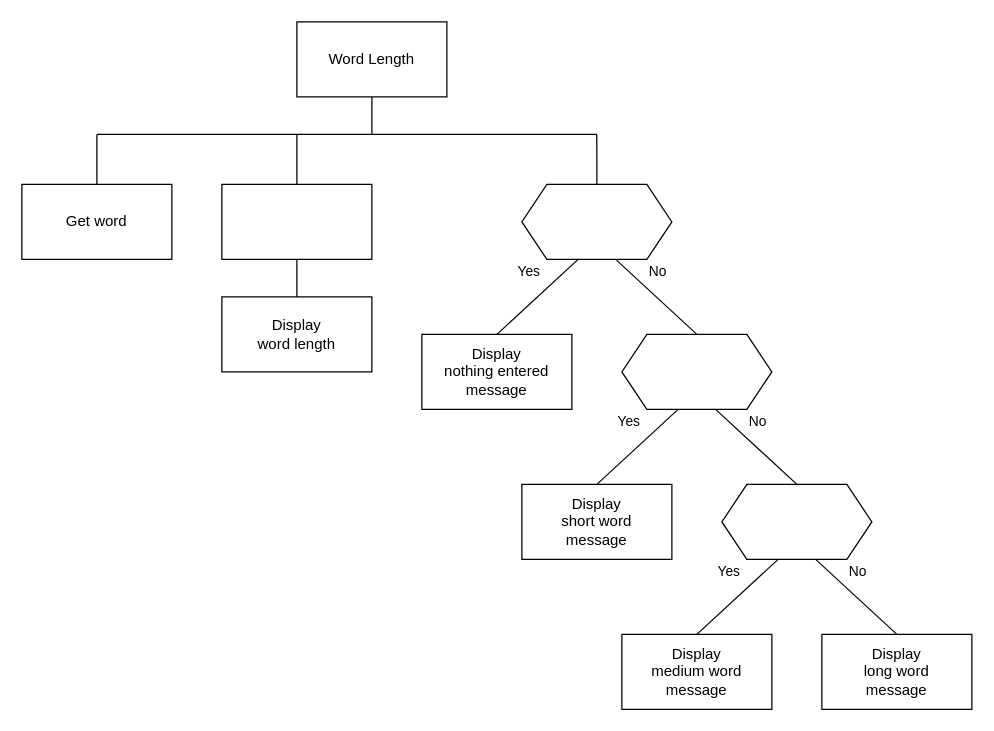
This 994x731 diagram has some shape labels left out. The centre of each missing label's shape, as x and y in pixels:
"0 letters in word?" goes at pixel 596 221.
"Calcuate word length" goes at pixel 296 221.
"Less than 10 letters in word?" goes at pixel 796 521.
"Less than 5 letters in word?" goes at pixel 696 371.
